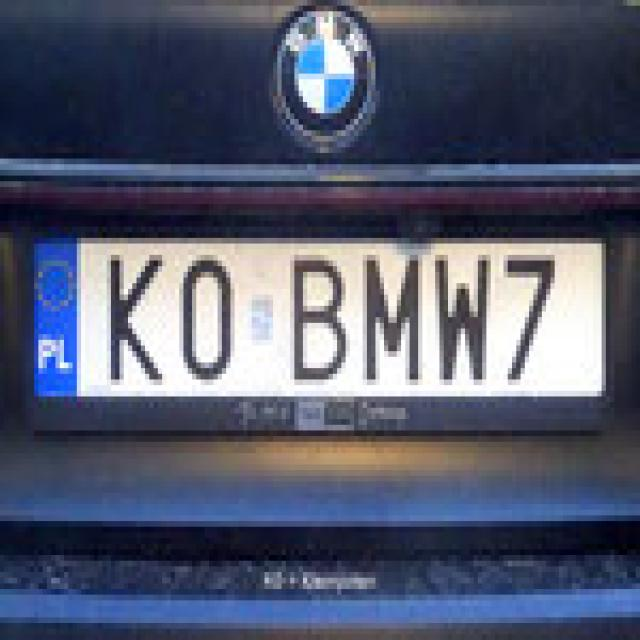pl_license_plate: (30, 232, 601, 391)
